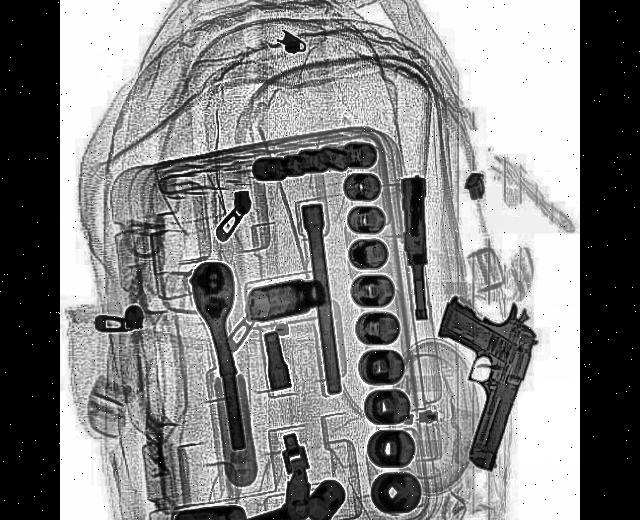Gun: (406, 267, 544, 479)
